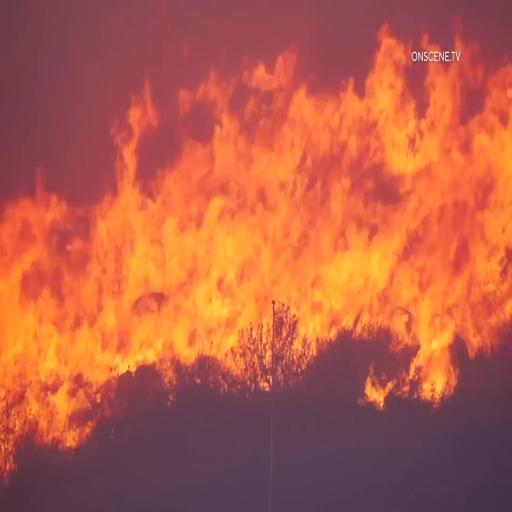fire: (228, 18, 408, 341), (88, 70, 236, 404), (403, 62, 512, 382), (2, 150, 95, 448)
